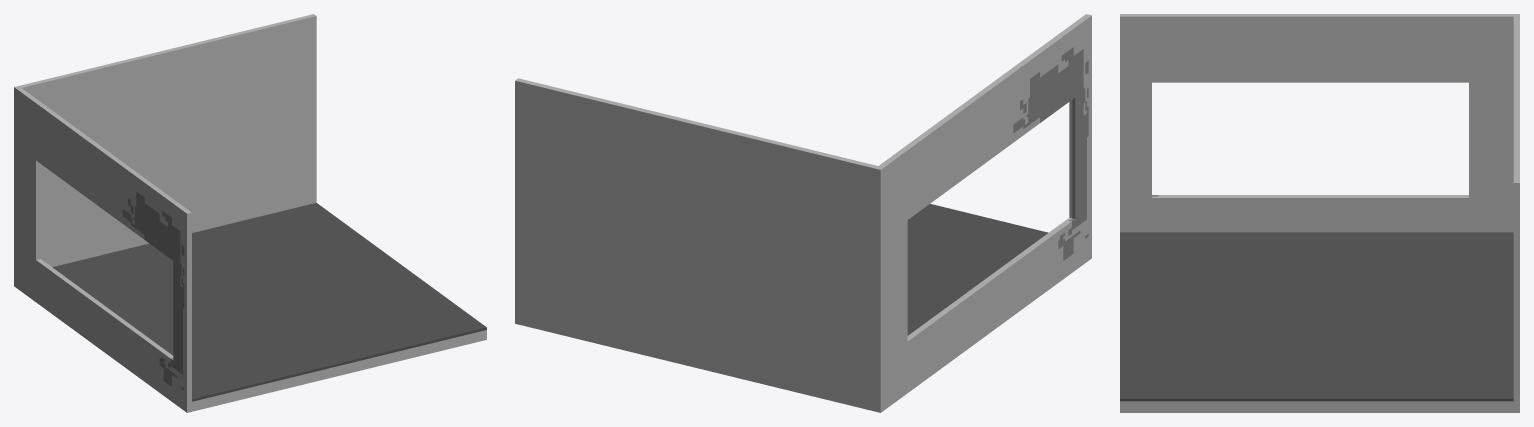
The model's file is 4x2 first (1)-0.obj.
The picture shows the model from 3 angles, left to right: view 1: azimuth 30°, elevation 25°; view 2: azimuth 150°, elevation 25°; view 3: azimuth 270°, elevation 25°; orthographic projection. The views are drawn at different scales.
Visible parts, largest first — view 1: 4x2 first (1)-0; view 2: 4x2 first (1)-0; view 3: 4x2 first (1)-0.
Part boxes in pixels (x1,y1,x2,y2): 4x2 first (1)-0: (14, 14, 486, 412); 4x2 first (1)-0: (515, 14, 1091, 412); 4x2 first (1)-0: (1120, 14, 1519, 412).
Bounding box in the file's own units: 126 × 80 × 126.
Materials: 1 (1 with a texture image).
